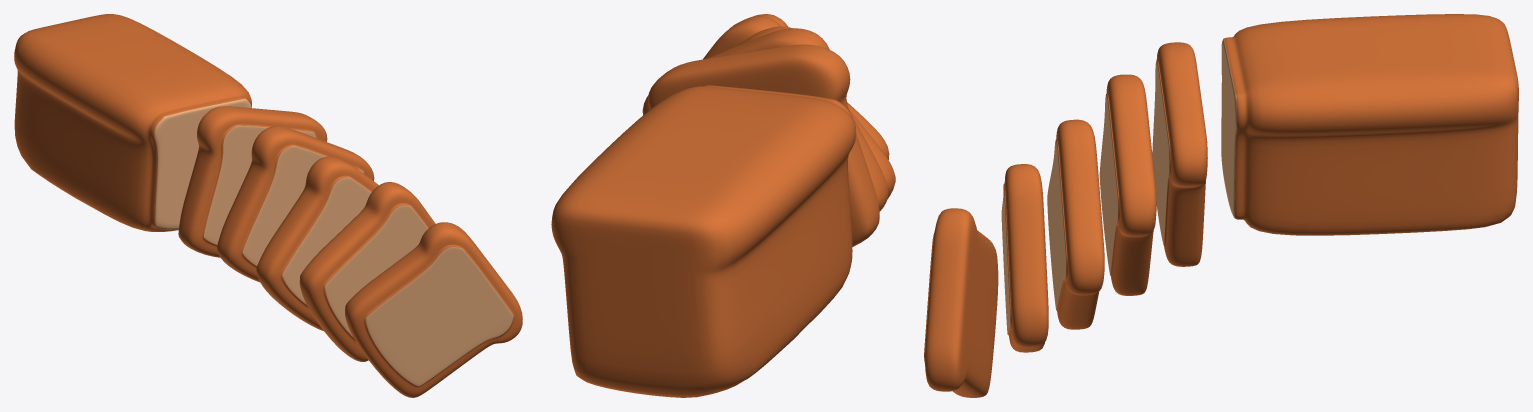
The model's file is paoblend.glb.
3 views of the same model, side by side, from view 1: azimuth 30°, elevation 25°; view 2: azimuth 150°, elevation 25°; view 3: azimuth 270°, elevation 25° (orthographic). The views are drawn at different scales.
Visible parts, largest first — view 1: Cube; view 2: Cube; view 3: Cube.
Boxes of the visible parts, bbox=[...] form: Cube: bbox=[14, 14, 522, 397]; Cube: bbox=[551, 14, 895, 397]; Cube: bbox=[924, 14, 1518, 397].
Bounding box in the file's own units: 17.93 × 15.14 × 28.05.
